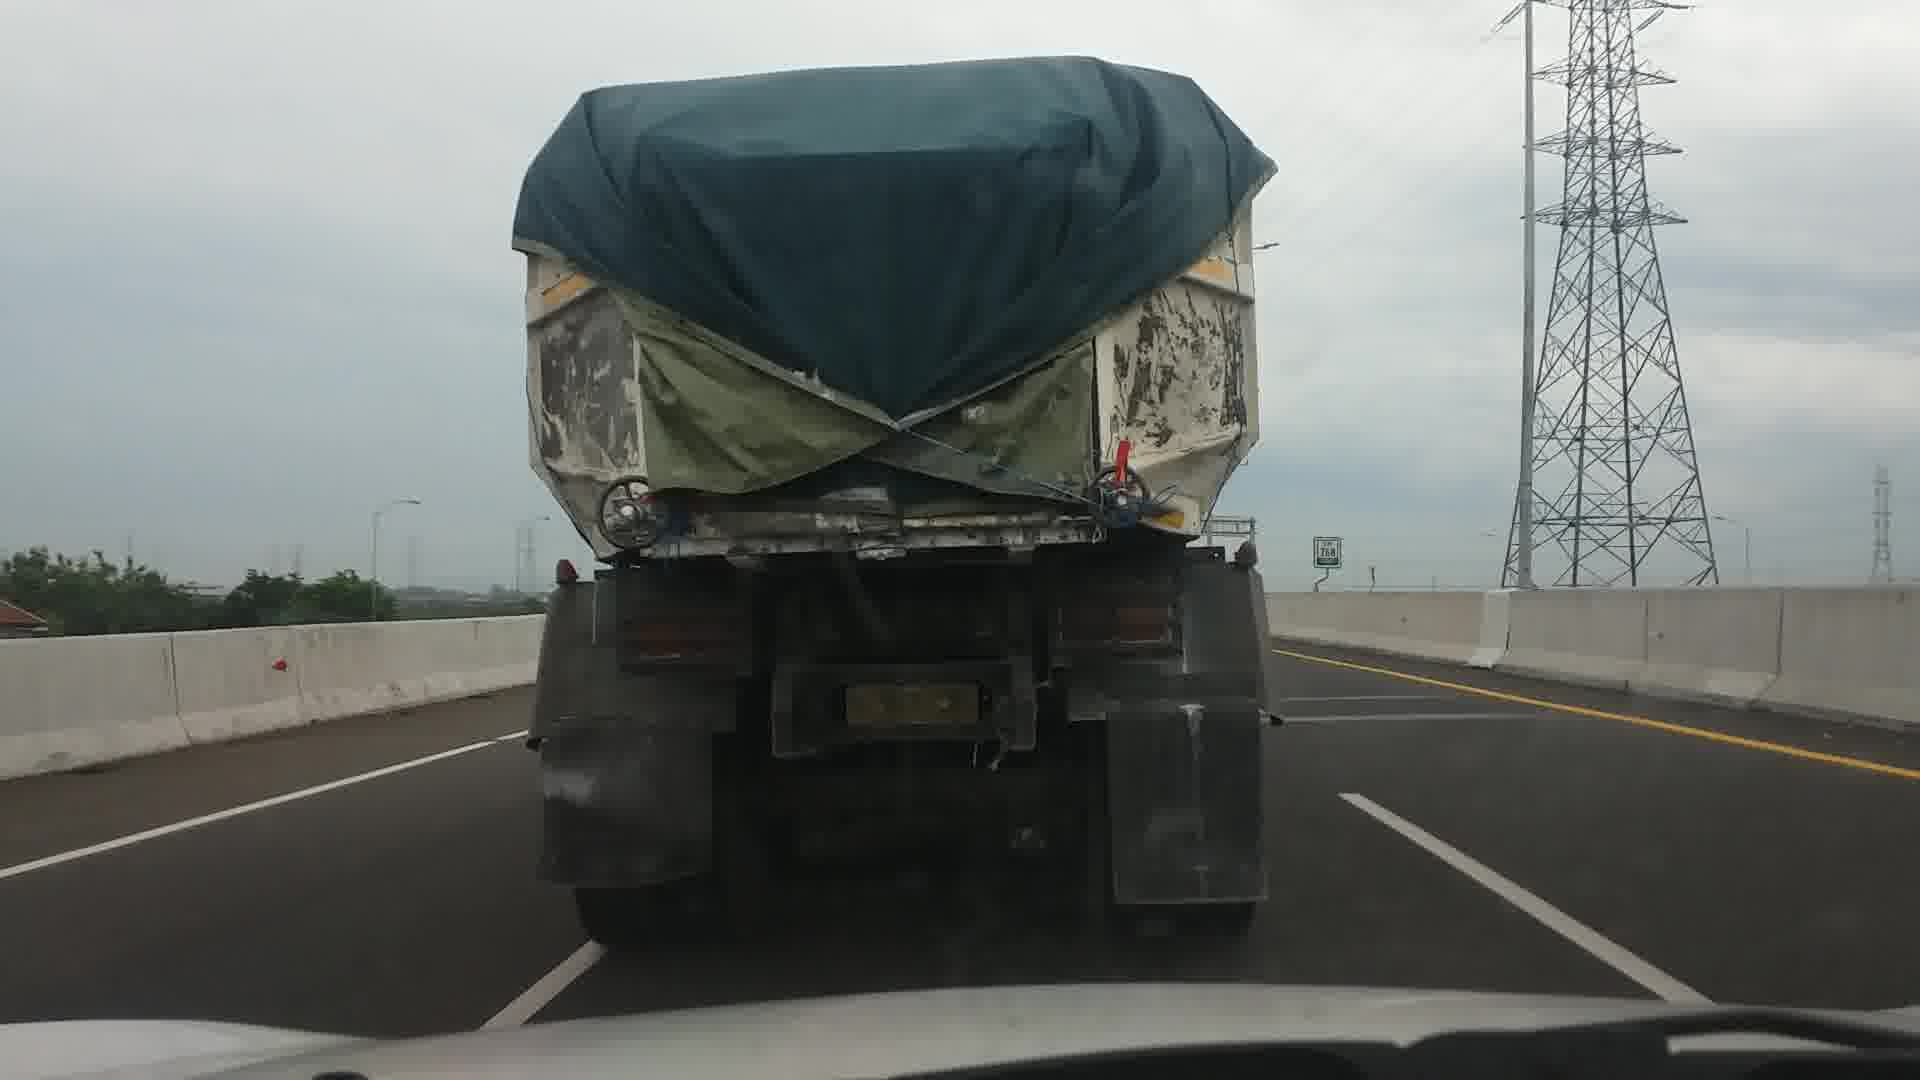plate_positive: (843, 682, 978, 728)
